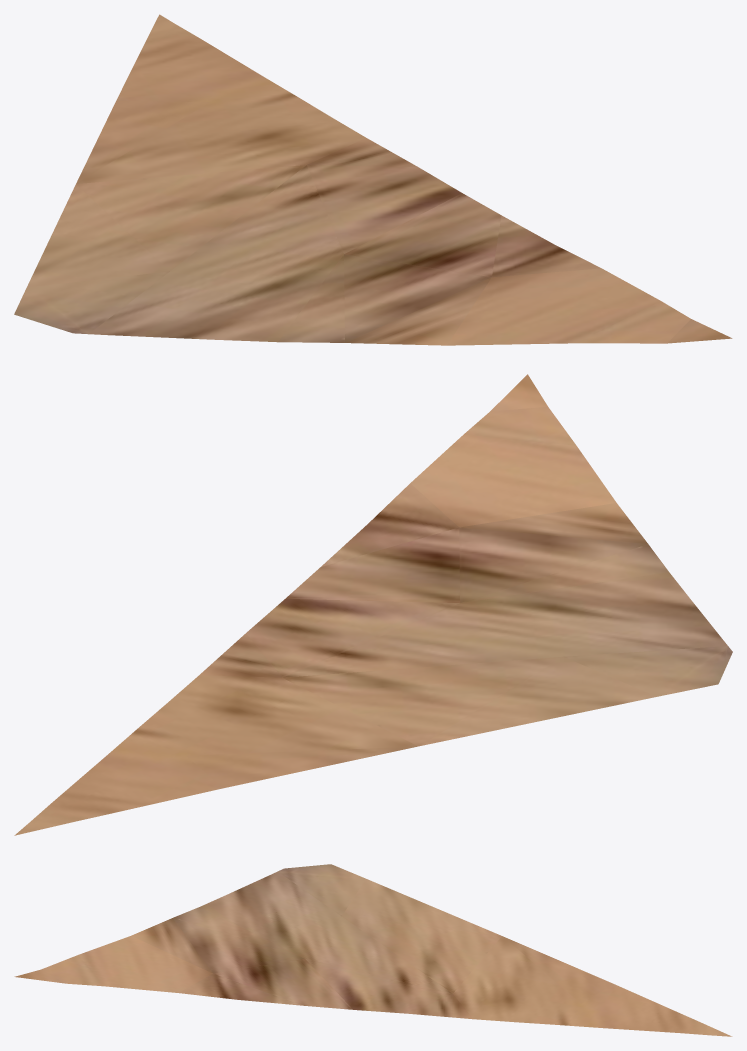
The picture shows the model from 3 angles, top to bottom: view 1: azimuth 30°, elevation 25°; view 2: azimuth 150°, elevation 25°; view 3: azimuth 270°, elevation 25°; orthographic projection. The views are drawn at different scales.
Size of the model in its own units: 1.16 by 0.2277 by 2.48.
Materials: 1 (1 with a texture image).
